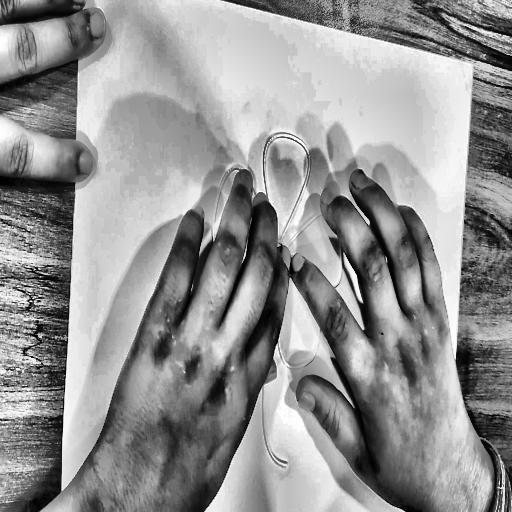flower: (193, 107, 359, 483)
top_right: (468, 56, 478, 73)
